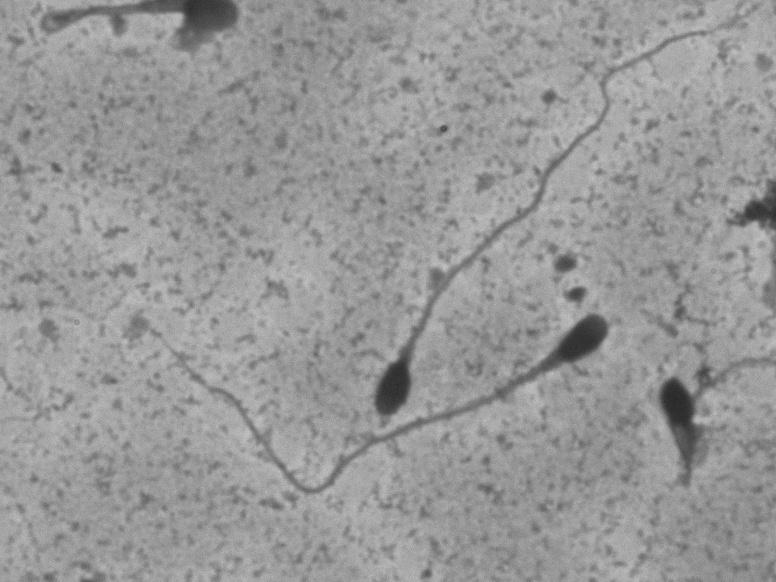Abnormal: (124, 297, 618, 510), (633, 338, 756, 513)
Normal: (359, 8, 756, 424)
